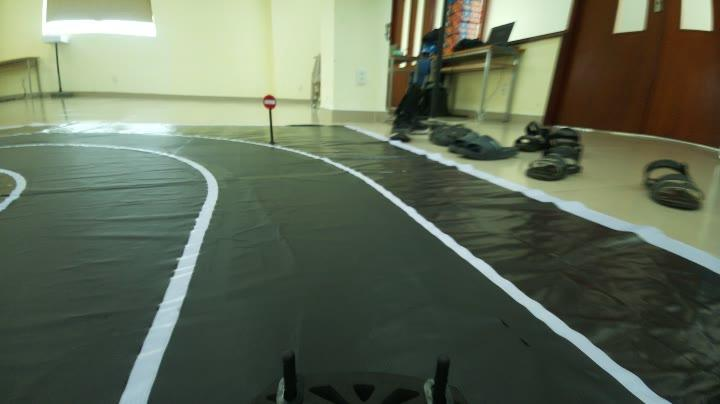no_entry: (263, 95, 279, 113)
